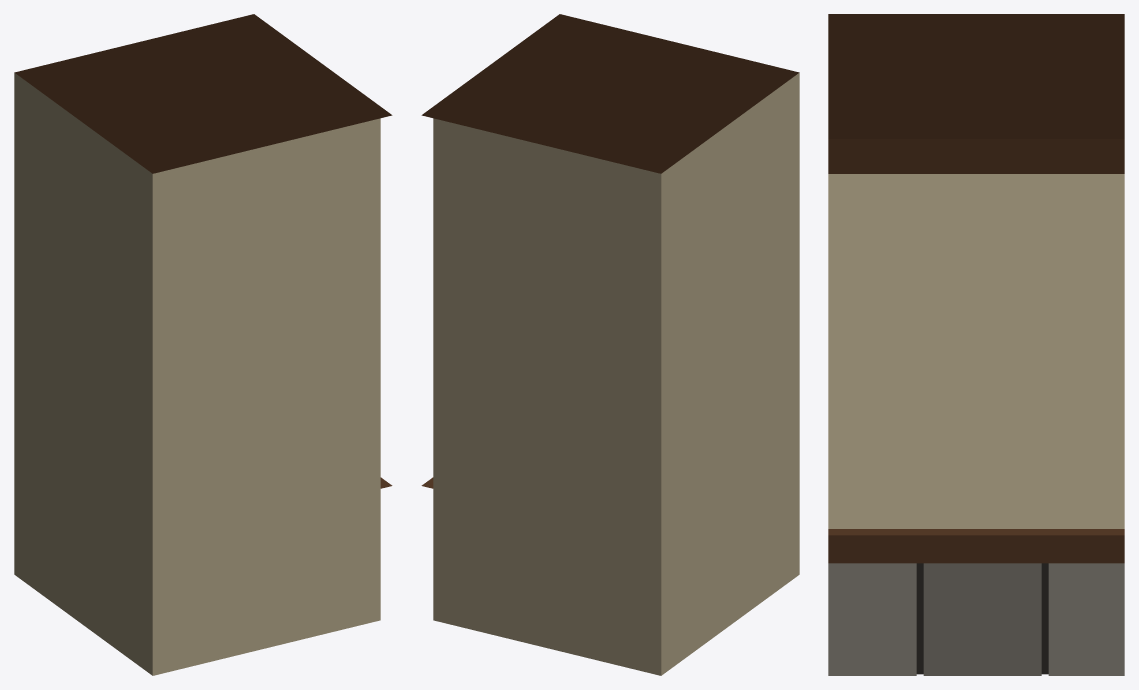
File: tile_house_wall_7.glb
3 renders of one model, left to right at view 1: azimuth 30°, elevation 25°; view 2: azimuth 150°, elevation 25°; view 3: azimuth 270°, elevation 25°, orthographic. The views are drawn at different scales.
Visible parts, largest first — view 1: tile_house_wall_7; view 2: tile_house_wall_7; view 3: tile_house_wall_7.
Boxes of the visible parts, box(x1,y1,x2,y2) form: tile_house_wall_7: box(14, 14, 392, 675); tile_house_wall_7: box(421, 14, 799, 675); tile_house_wall_7: box(828, 14, 1124, 675).
Bounding box in the file's own units: 1 × 2 × 1.
